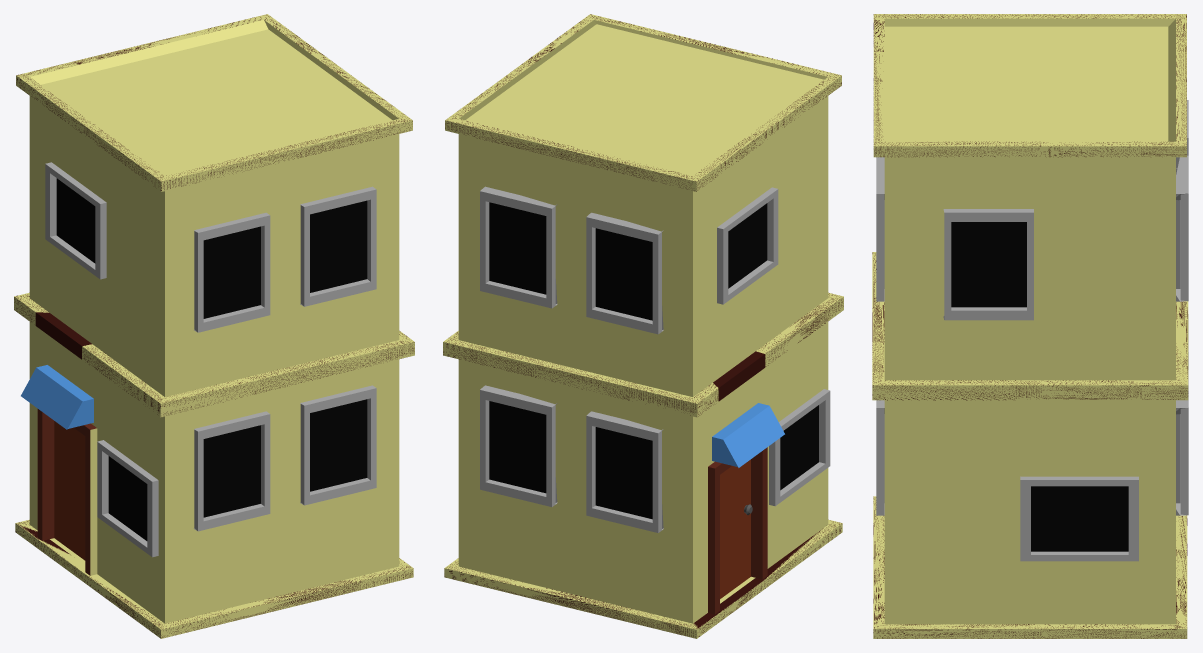
Rendered from EV2blend.fbx.
The picture shows the model from 3 angles, left to right: view 1: azimuth 30°, elevation 25°; view 2: azimuth 150°, elevation 25°; view 3: azimuth 270°, elevation 25°; orthographic projection. The views are drawn at different scales.
Visible parts, largest first — view 1: Cube, Plane; view 2: Cube, Plane; view 3: Cube, Plane.
Part boxes in pixels (x1,y1,x2,y2): Cube: (14, 14, 414, 638); Plane: (45, 162, 376, 557); Cube: (443, 14, 843, 638); Plane: (480, 186, 830, 532); Cube: (872, 14, 1188, 638); Plane: (876, 100, 1188, 561).
Size of the model in its own units: 471 by 757 by 441.
